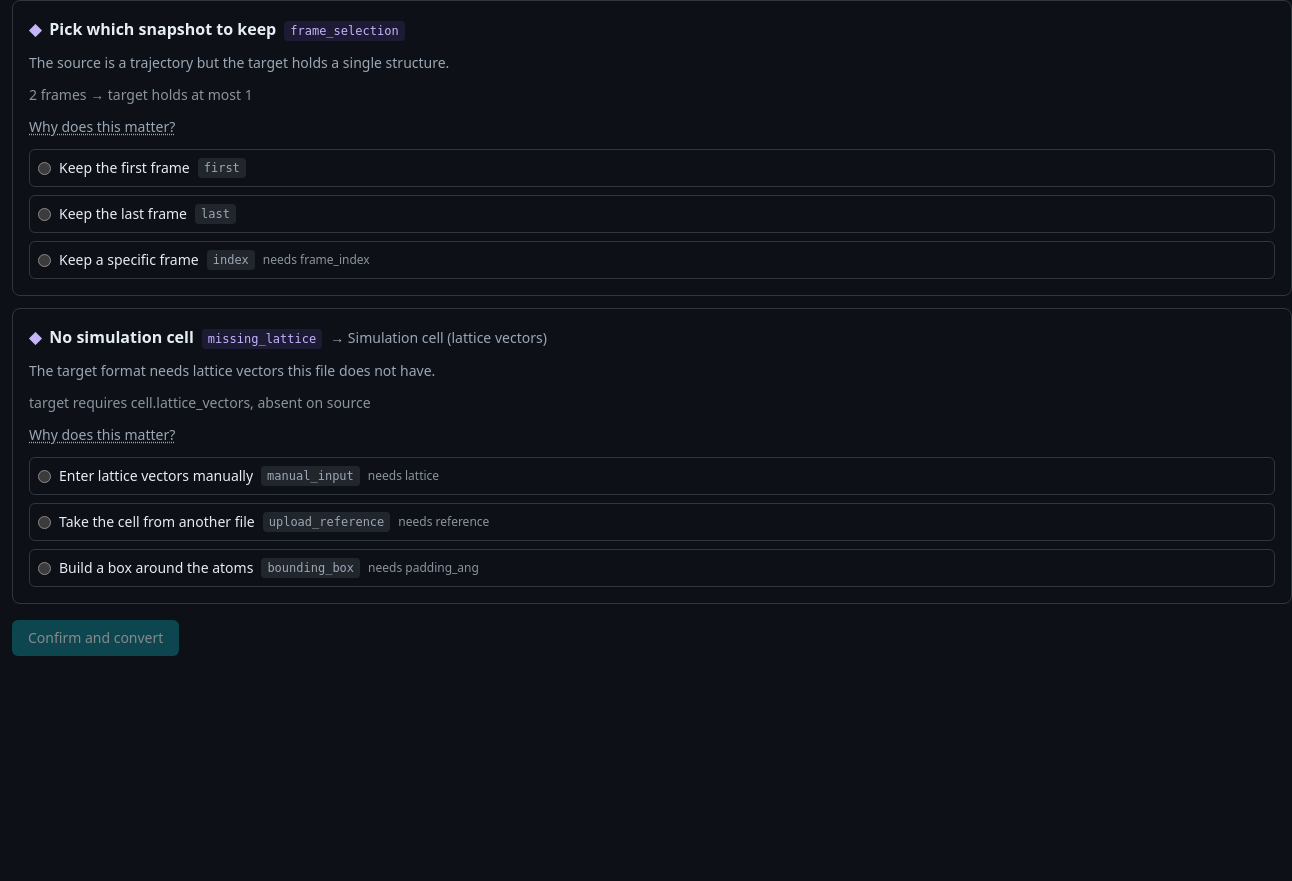
Test: RecoveryWizard › recovers when the preview retry succeeds — Confirm then enables (F5)
The width and height of the screenshot is (1292, 881).
Click the radio button labelled "Keep the last frame last" at (44, 214), box [38,208,51,220]
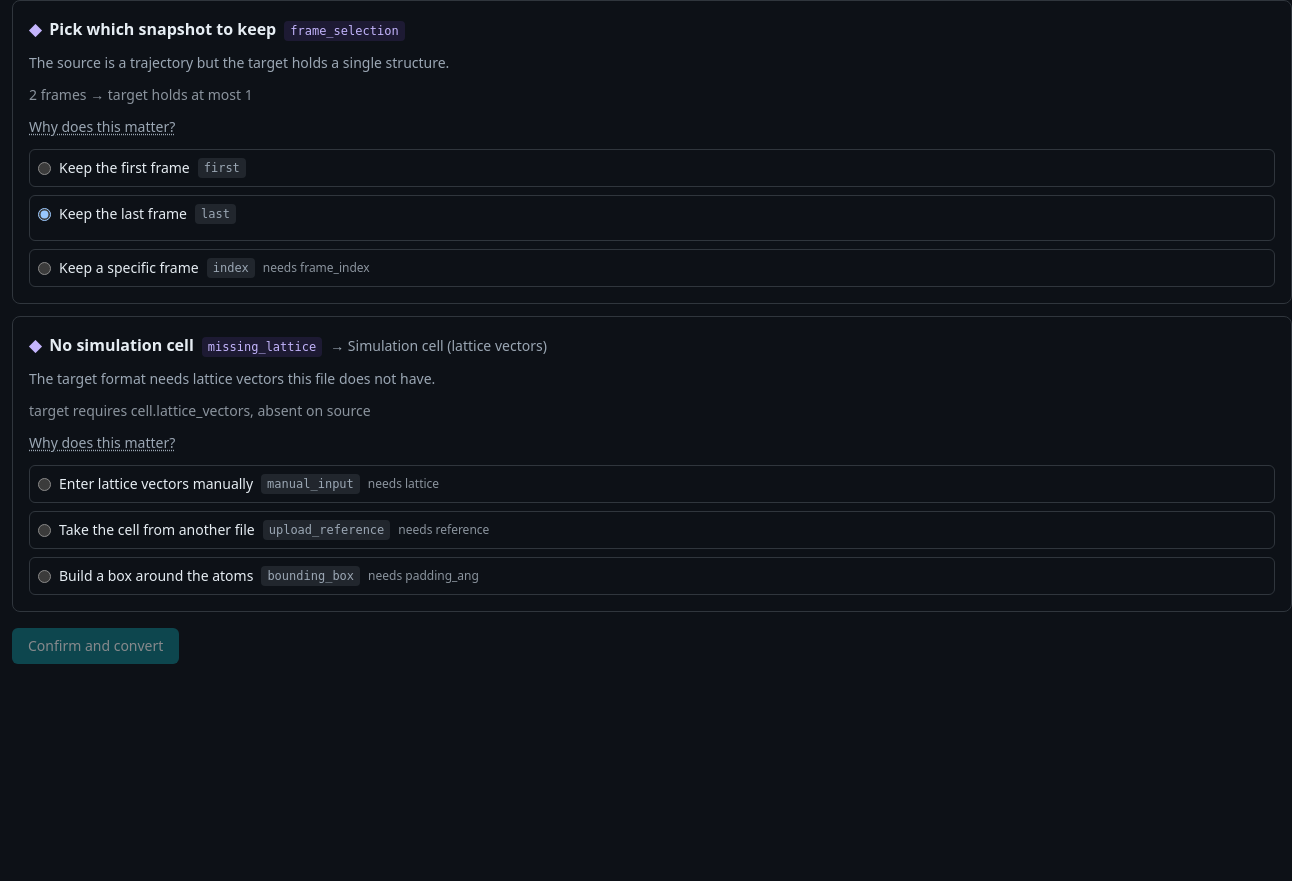
Click the radio button labelled "Build a box around the atoms bounding_box" at (44, 576), box [38,570,51,582]
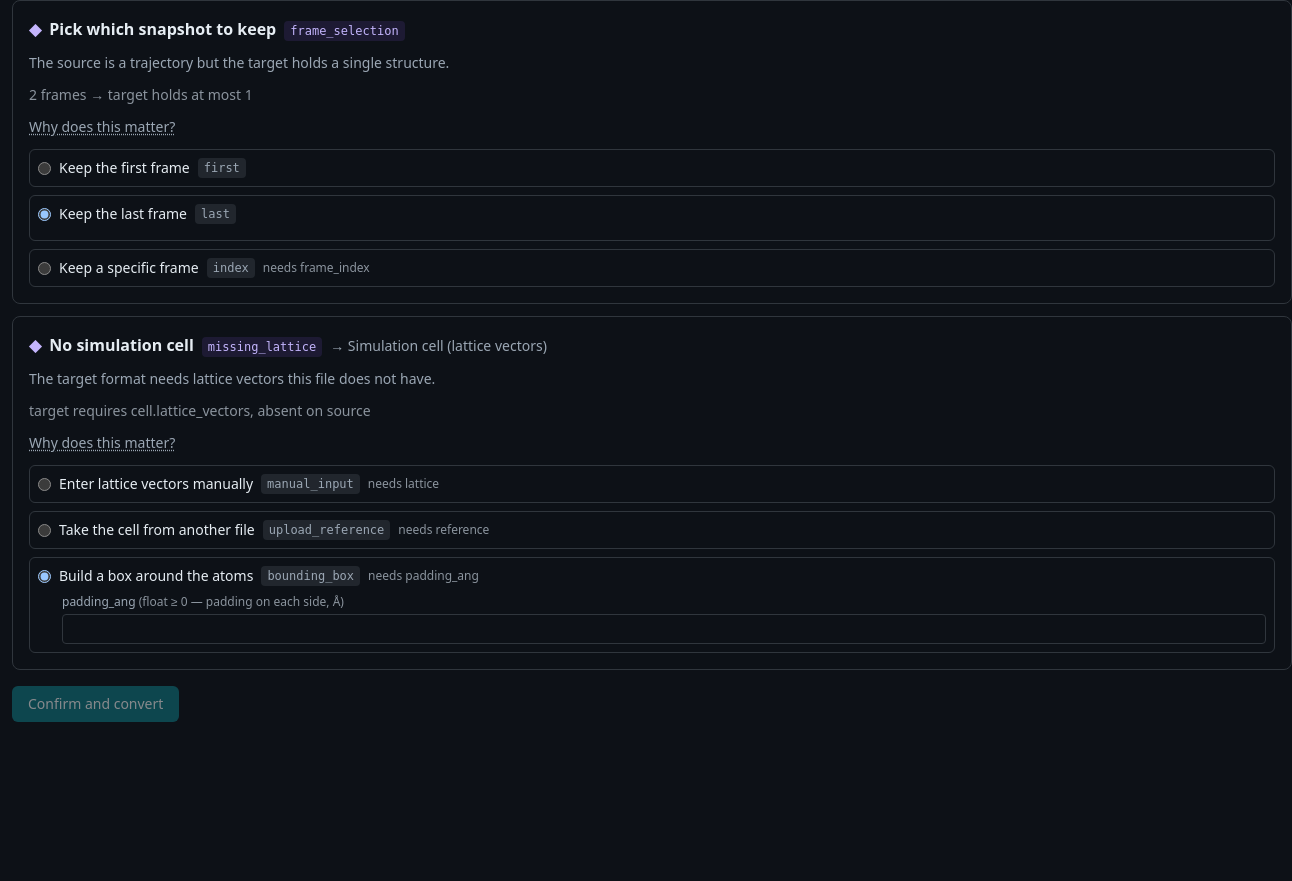
Type "5" into the number field labelled "padding_ang (float ≥ 0 — padding on each side, Å)" at (664, 629), box [62,614,1266,644]
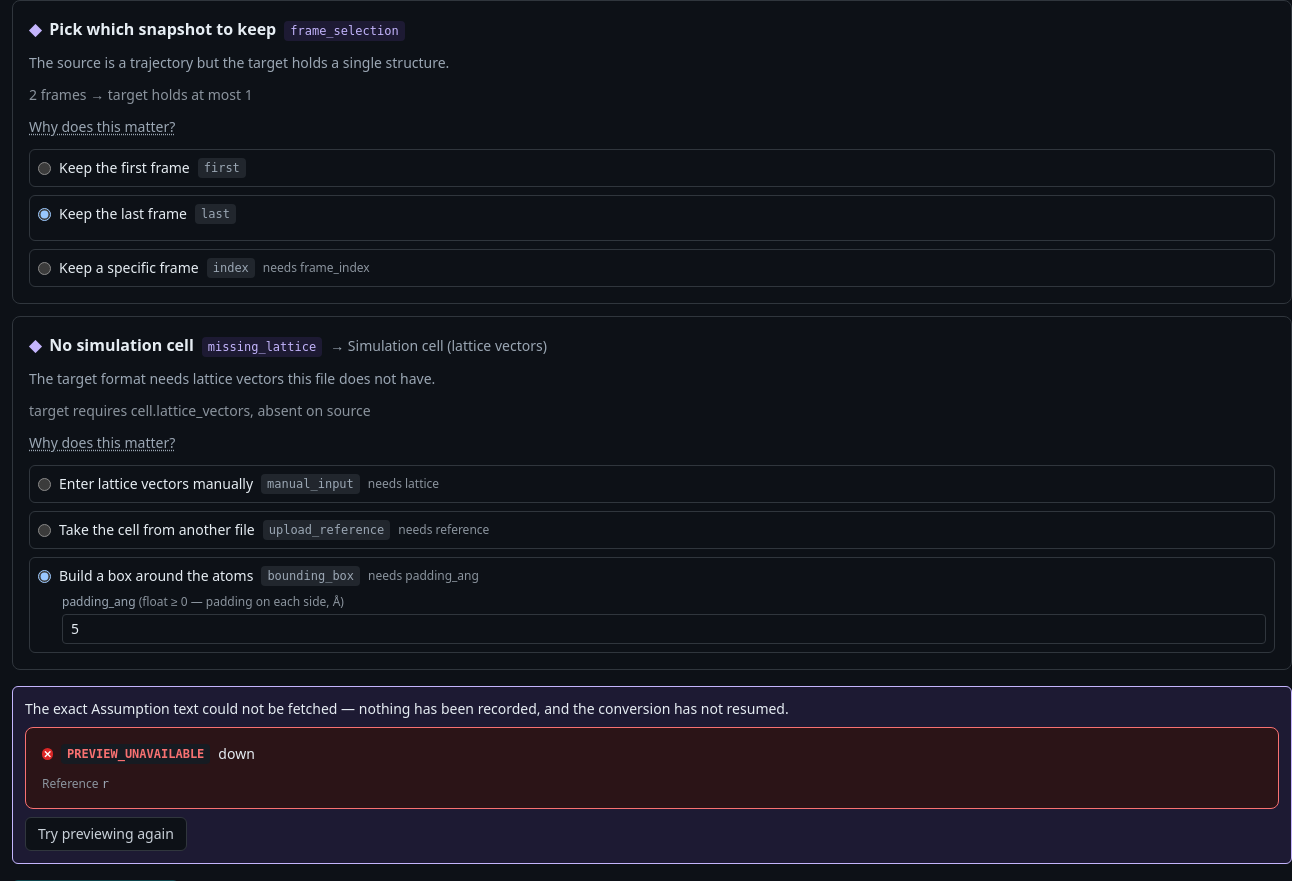
Click the button "Try previewing again" at (106, 834), box [25,817,187,851]
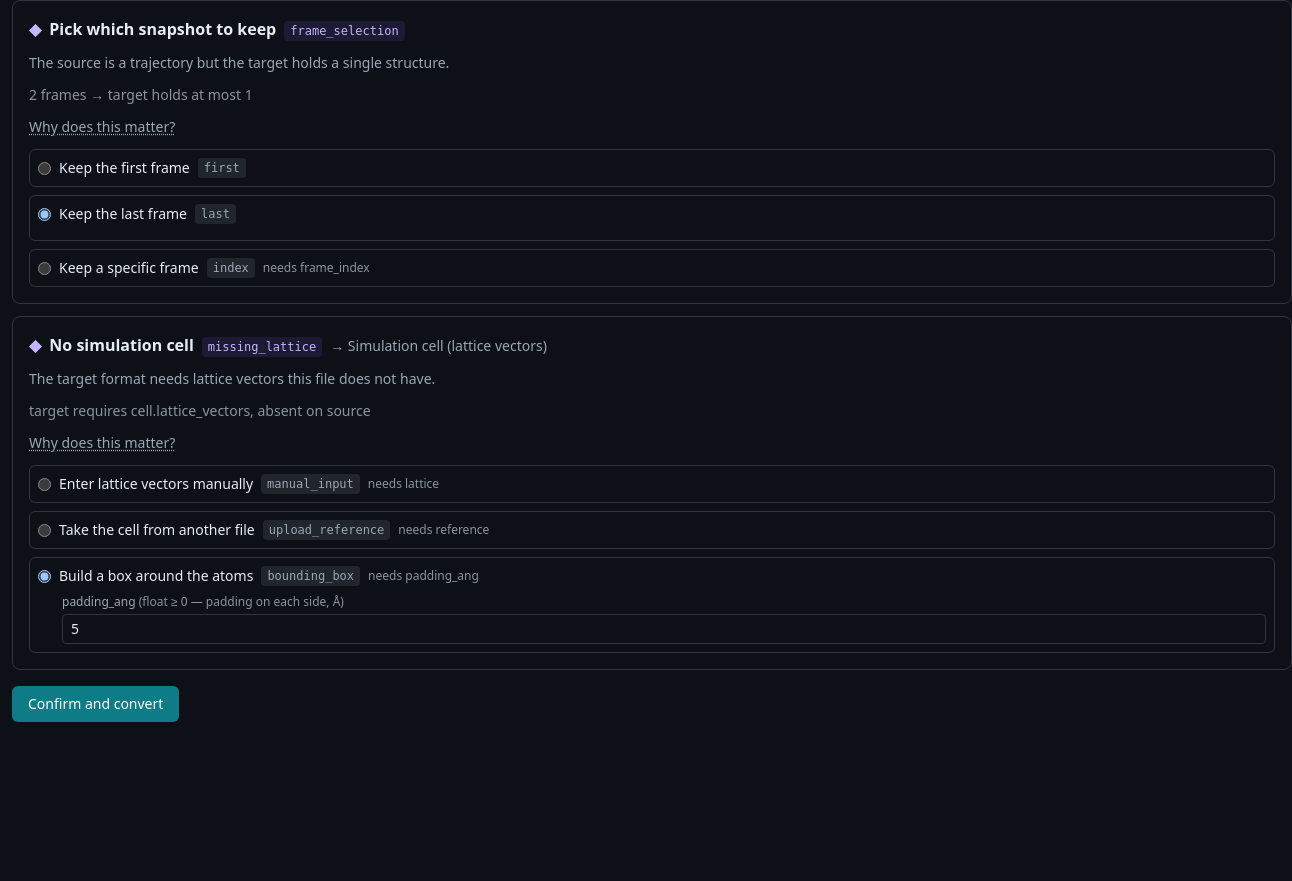
Expected: the button "Confirm and convert" is enabled, [12,686,179,722]
